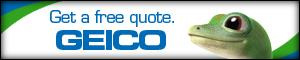geico: (54, 29, 170, 51)
